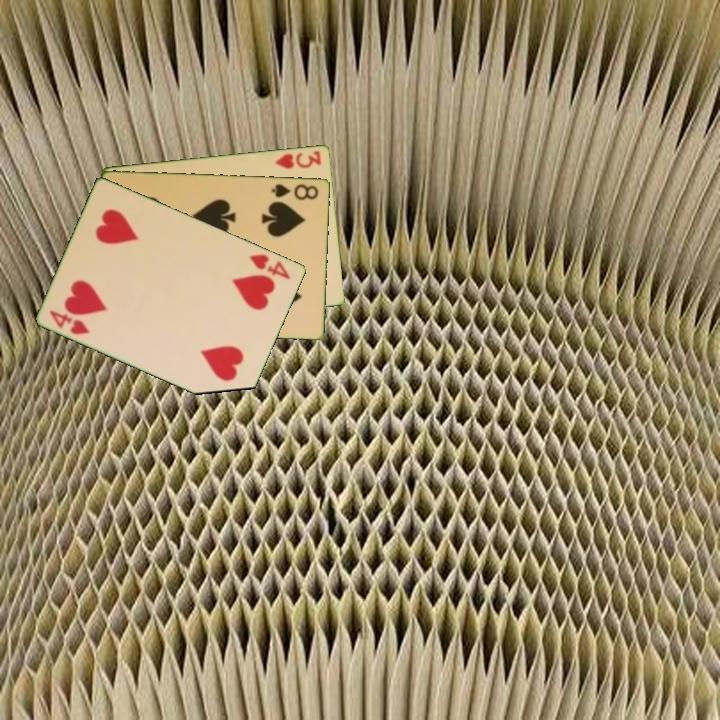3h: (272, 147, 324, 171)
4h: (246, 250, 293, 282), (46, 306, 93, 337)
8s: (268, 180, 321, 203)
